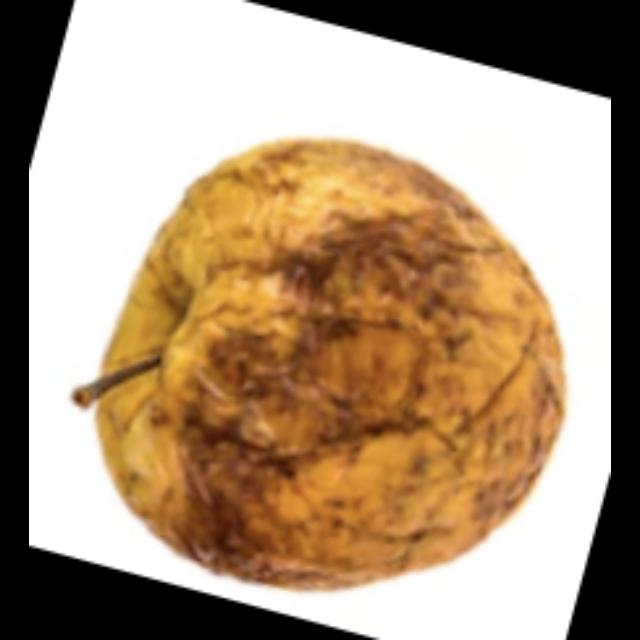Apel Tidak Segar: (96, 136, 570, 588)
